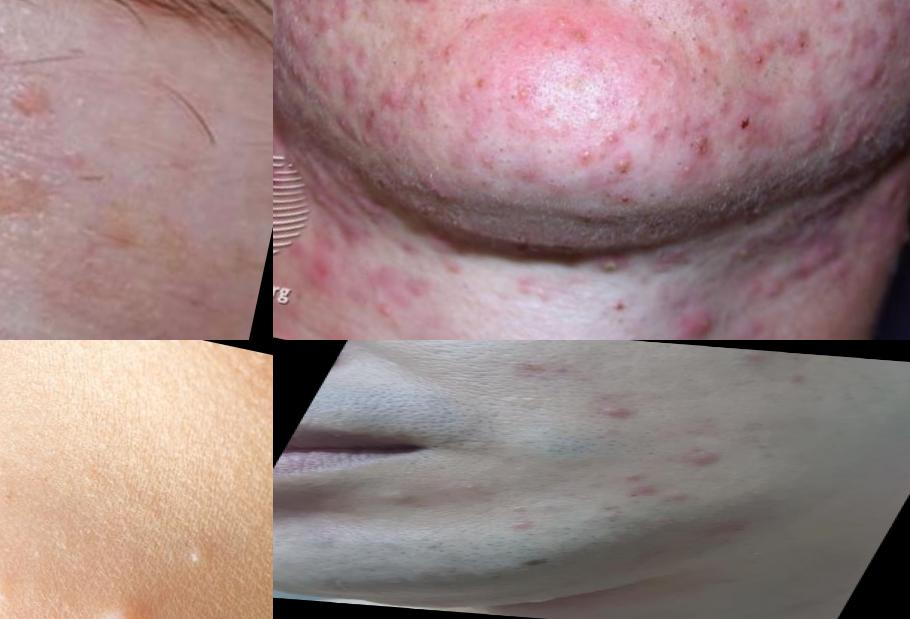blackhead: (635, 111, 684, 152), (569, 99, 615, 136), (706, 72, 739, 104), (676, 64, 710, 94), (690, 58, 722, 83), (648, 8, 671, 30), (539, 140, 562, 162), (666, 24, 687, 48), (688, 30, 708, 49)
cystic: (65, 583, 180, 619), (382, 50, 414, 77)
flat_wart: (1, 151, 67, 234), (1, 63, 66, 127)
keloid: (754, 230, 851, 322), (301, 187, 380, 262), (274, 39, 350, 113), (296, 131, 354, 191)
papular: (538, 4, 604, 62), (664, 448, 757, 479), (493, 70, 549, 120), (789, 102, 841, 155), (414, 169, 473, 212), (842, 57, 890, 101), (587, 401, 659, 429), (372, 80, 419, 121), (711, 1, 766, 32), (687, 121, 726, 161), (618, 479, 680, 504), (669, 149, 705, 188), (408, 85, 444, 122), (784, 26, 822, 60), (447, 82, 484, 114), (473, 147, 507, 181), (431, 37, 466, 69), (612, 467, 661, 489), (744, 42, 775, 76), (818, 1, 857, 22), (352, 1, 395, 12)
purulent: (650, 307, 729, 341), (605, 147, 643, 180), (570, 140, 608, 172), (595, 248, 629, 281), (396, 1, 446, 12)
whitehead: (623, 39, 684, 100), (172, 531, 232, 591), (361, 484, 419, 514), (1, 568, 32, 619), (495, 502, 540, 519)
